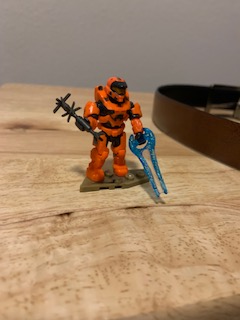spartan: (83, 76, 145, 182)
